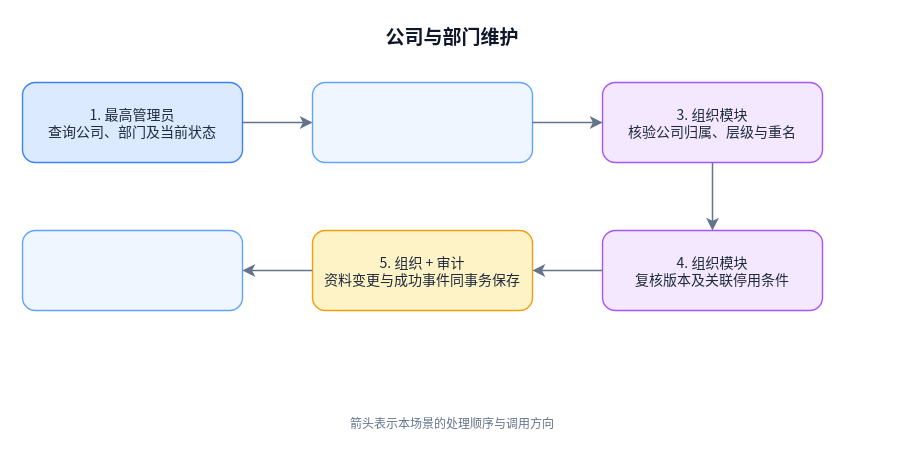
Image size: 904x454. Some labels were removed from this diagram. Here are the shapes that lost their labels. From the top down, the box of each, then its label:
(311, 81, 533, 163): 2. 管理后台 提交资料和页面版本
(21, 229, 243, 311): 6. 管理后台 返回最新资料；冲突或审计故障则回滚
